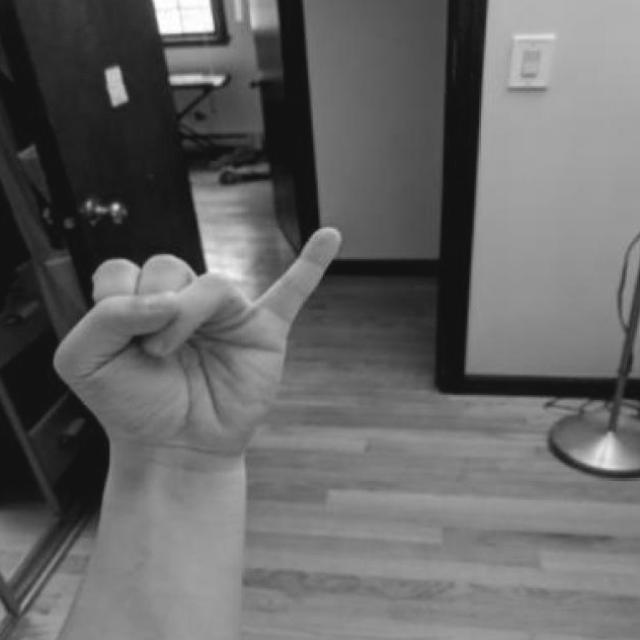I: (47, 214, 351, 484)
